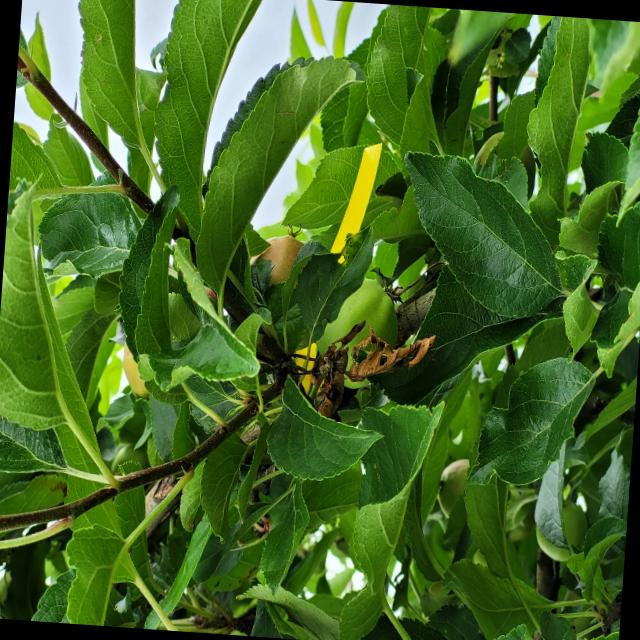-FireBlight-: (278, 315, 435, 419)
